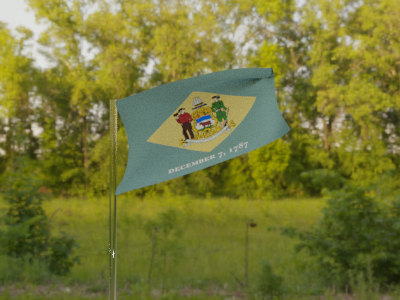Delaware flag: (116, 65, 291, 194)
